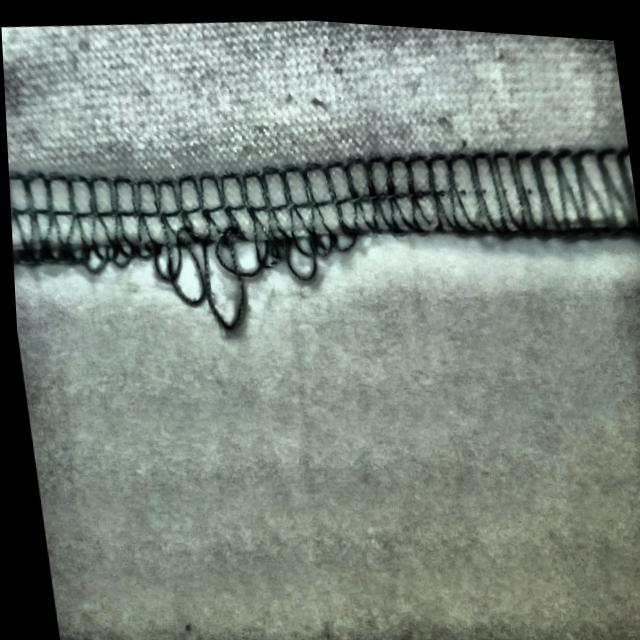Stitch: (68, 133, 370, 347)
